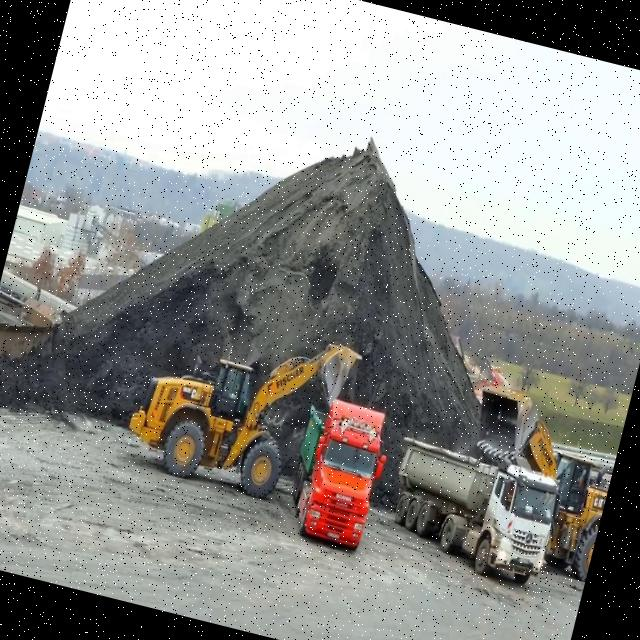Dump Truck: (373, 430, 569, 590), (277, 390, 397, 552)
Loader: (117, 298, 365, 514), (442, 378, 626, 580)
